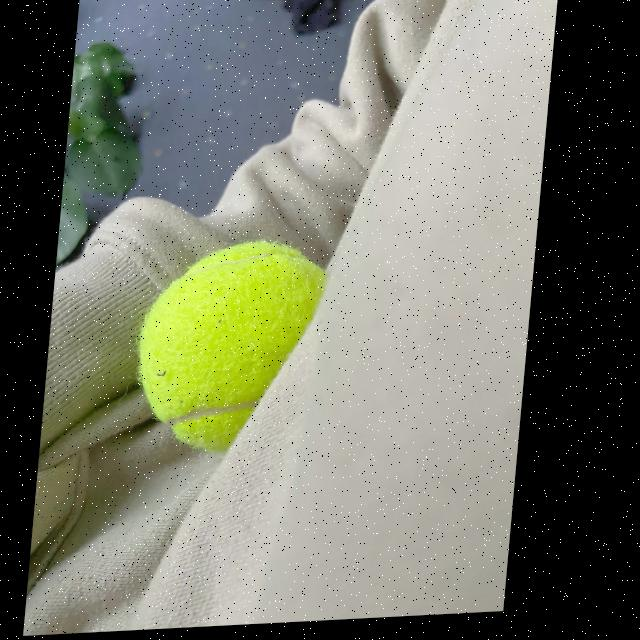Tennisball: (138, 241, 325, 451)
